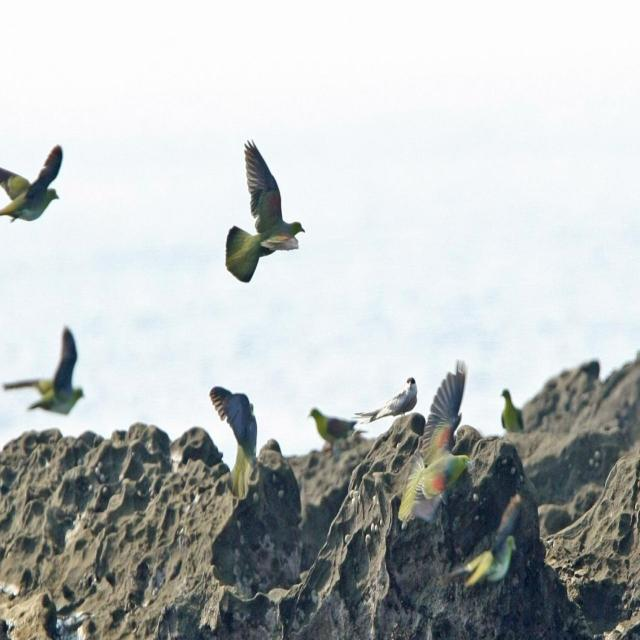bird: (236, 440, 308, 613), (234, 140, 311, 259), (9, 329, 90, 418), (0, 148, 66, 224), (222, 224, 301, 286), (405, 450, 474, 512), (207, 387, 258, 461), (452, 538, 519, 589), (357, 374, 419, 424), (499, 388, 531, 436)
